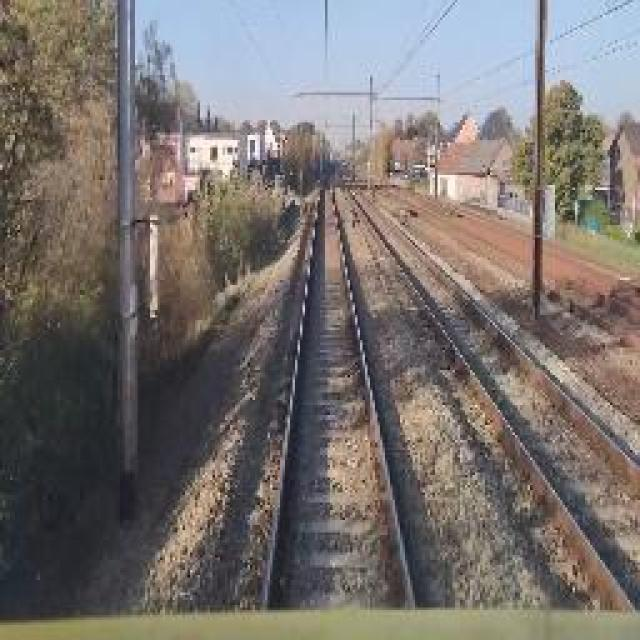rail: (334, 164, 640, 610), (234, 166, 441, 614)
